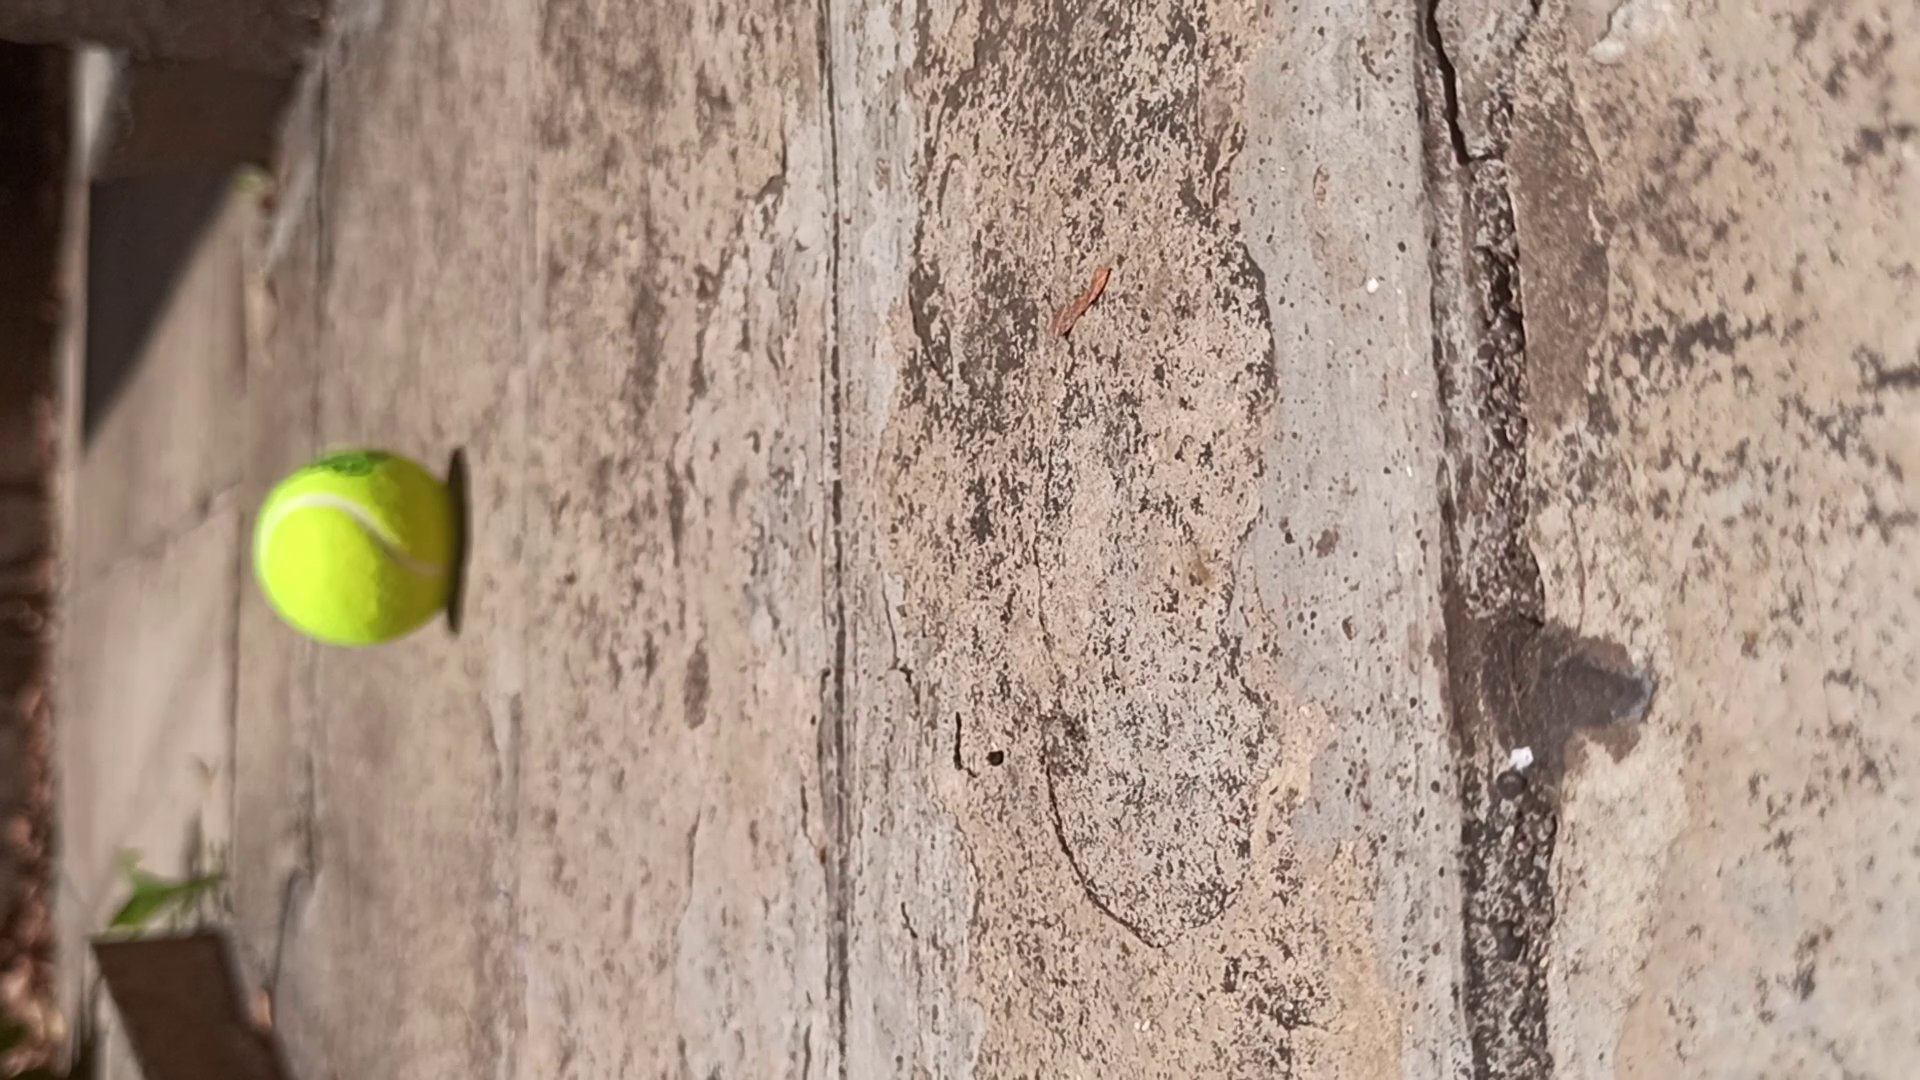Tennis-Ball: (252, 448, 455, 647)
